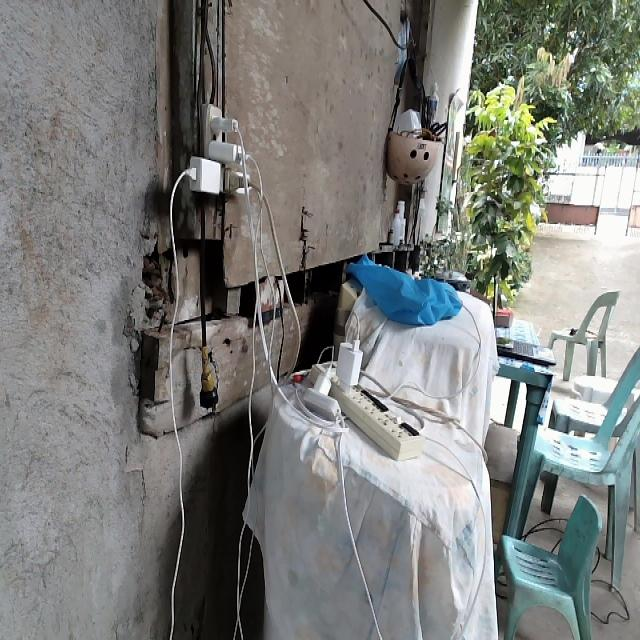-: (179, 97, 251, 199)
